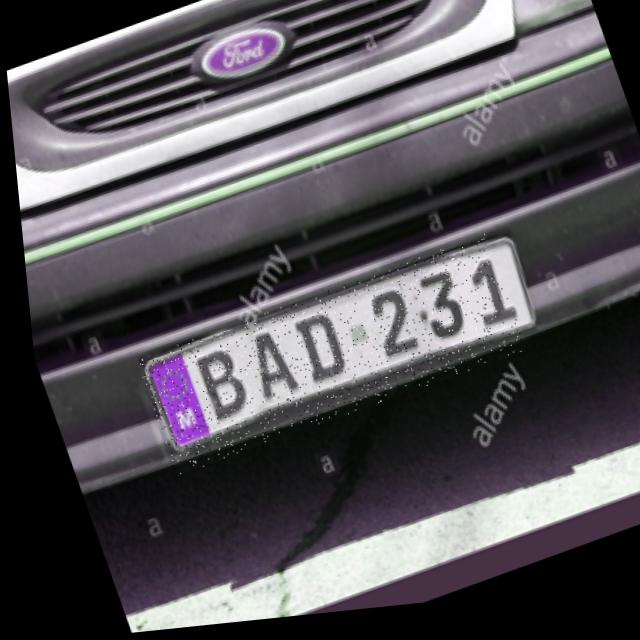license_plate: (122, 240, 526, 481)
